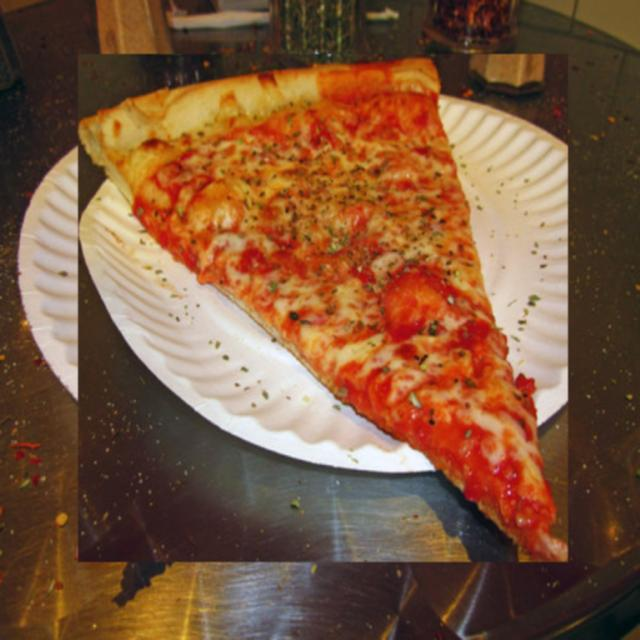pizza: (78, 54, 568, 562)
